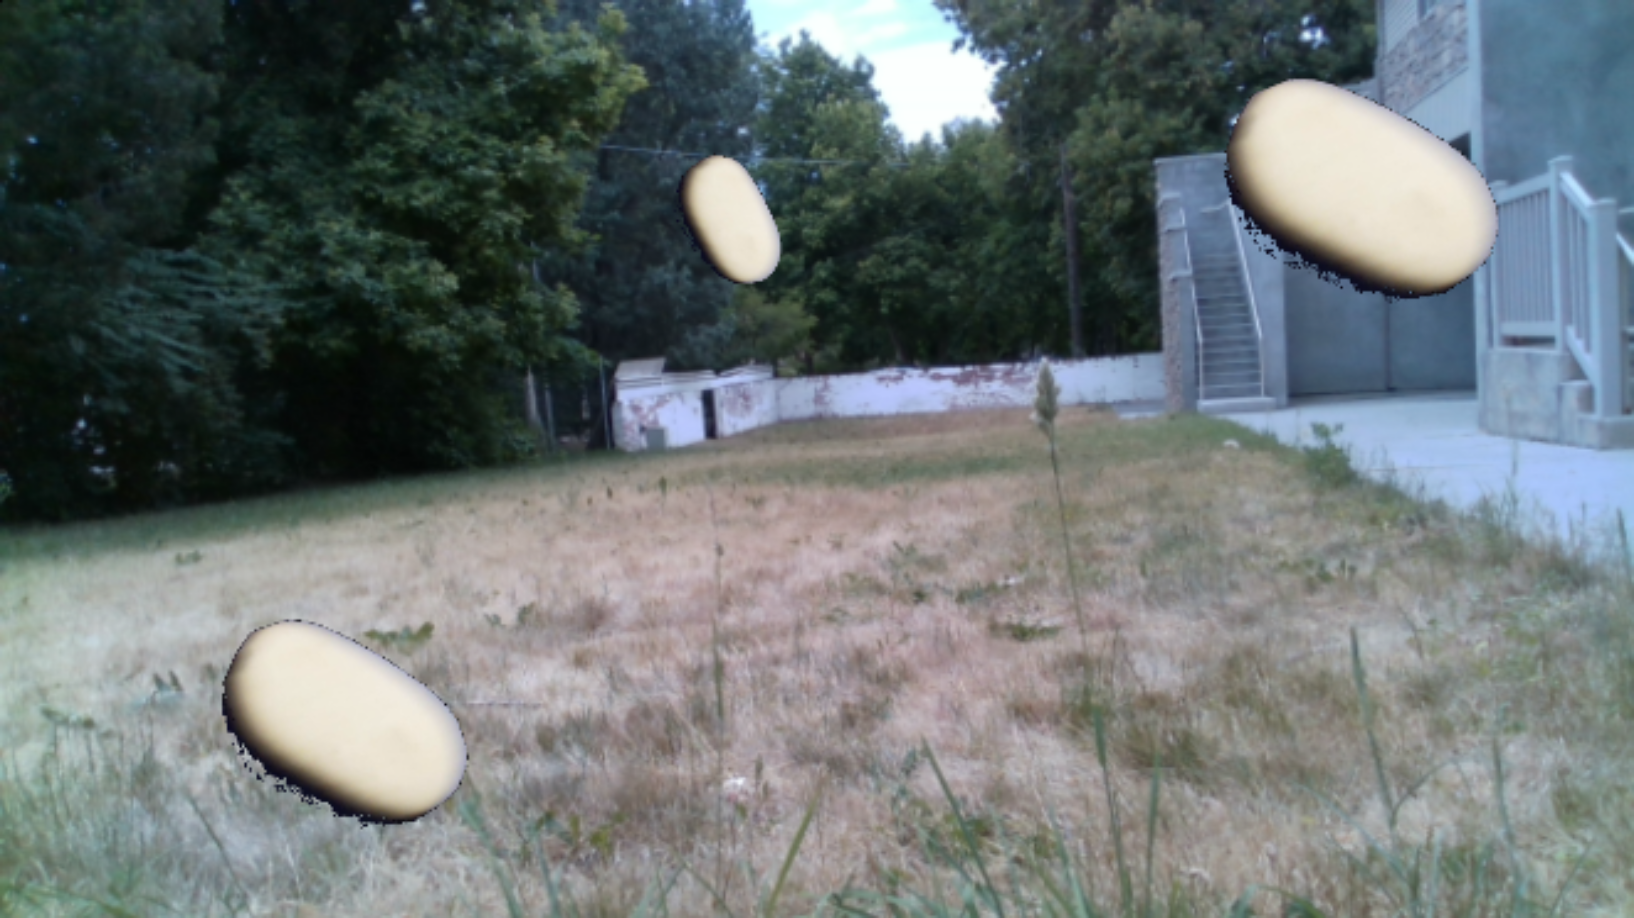test: (1195, 24, 1520, 356), (198, 577, 484, 870), (657, 146, 800, 293)
